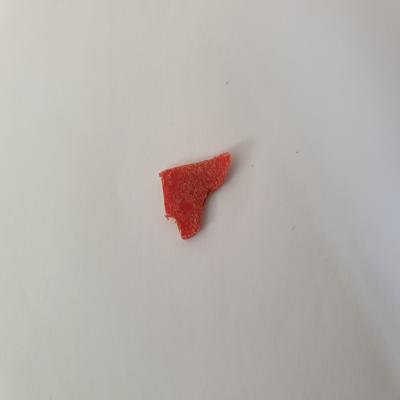plastic: (156, 148, 235, 247)
